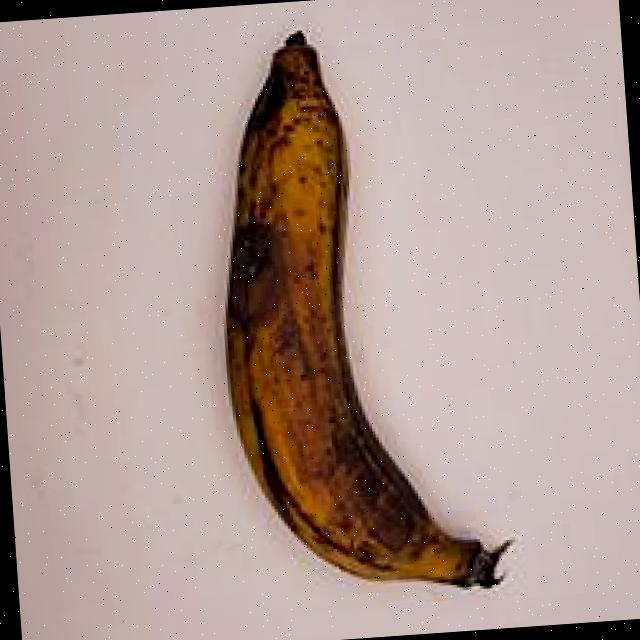Overripe: (155, 9, 529, 640)
